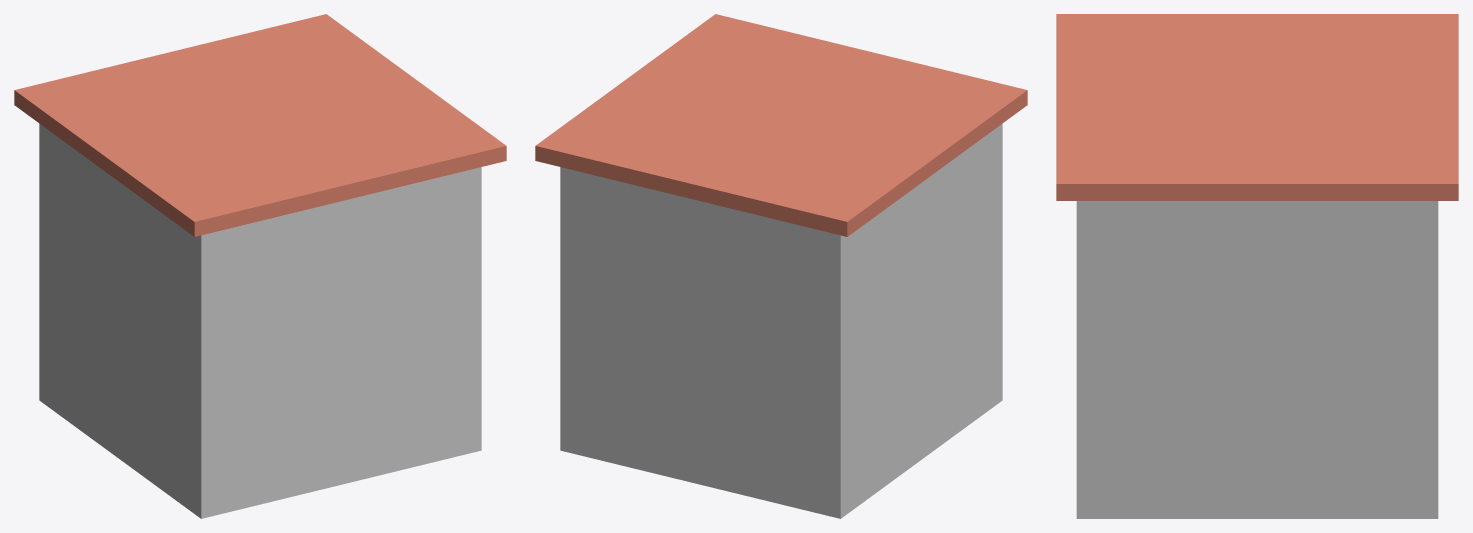
File: islandcounter.glb
3 renders of one model, left to right at view 1: azimuth 30°, elevation 25°; view 2: azimuth 150°, elevation 25°; view 3: azimuth 270°, elevation 25°, orthographic. The views are drawn at different scales.
Parts seen in each view (by area): view 1: Cube; view 2: Cube; view 3: Cube.
Part boxes in pixels (x1=…): Cube: x1=14, y1=14, x2=506, y2=518; Cube: x1=535, y1=14, x2=1027, y2=518; Cube: x1=1056, y1=14, x2=1458, y2=518.
Size of the model in its own units: 1.92 by 1.81 by 1.92.
